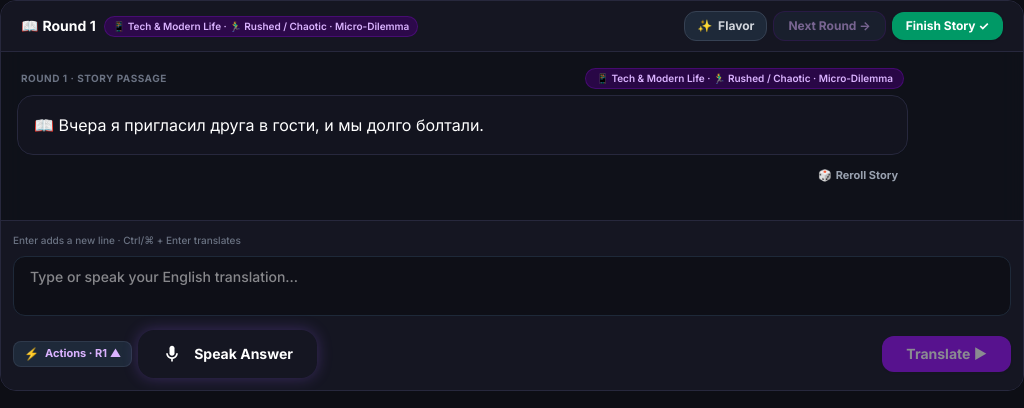
Test: TranslationStorySession Component › supports rerolling the active round passage before submitting translation
expect the text "📖 Вчера я пригласил друга в гости, и мы долго болтали." is shown: met, box [34,115,484,135]
Click the button "🎲 Reroll Story".
click(858, 175)  # box [808,163,908,188]
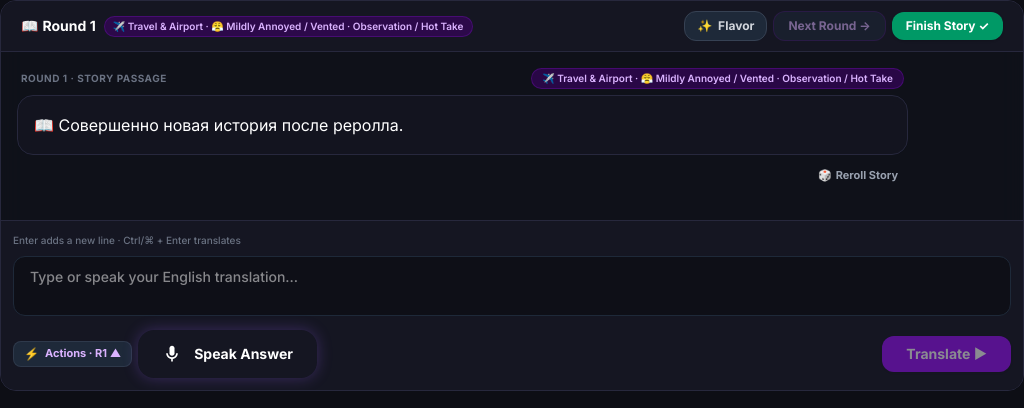
expect the text "📖 Совершенно новая история после реролла." is shown: met, box [34,115,403,135]
